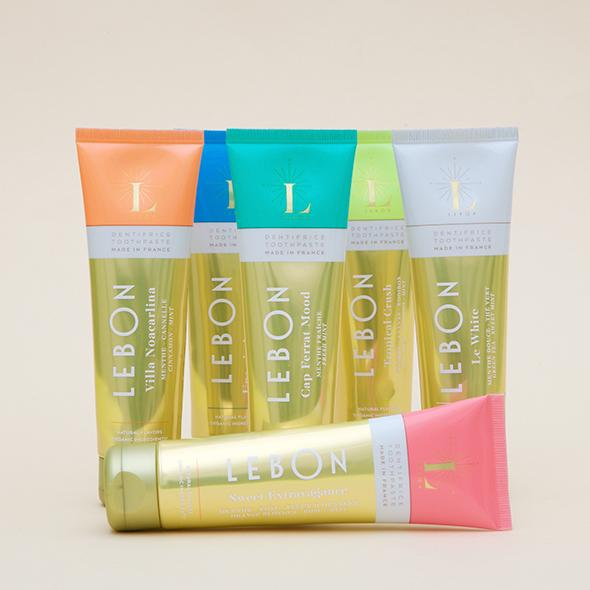toothpaste: (107, 411, 519, 542), (74, 120, 172, 491), (228, 129, 334, 446), (394, 128, 505, 420), (327, 123, 405, 419), (178, 137, 232, 436)
